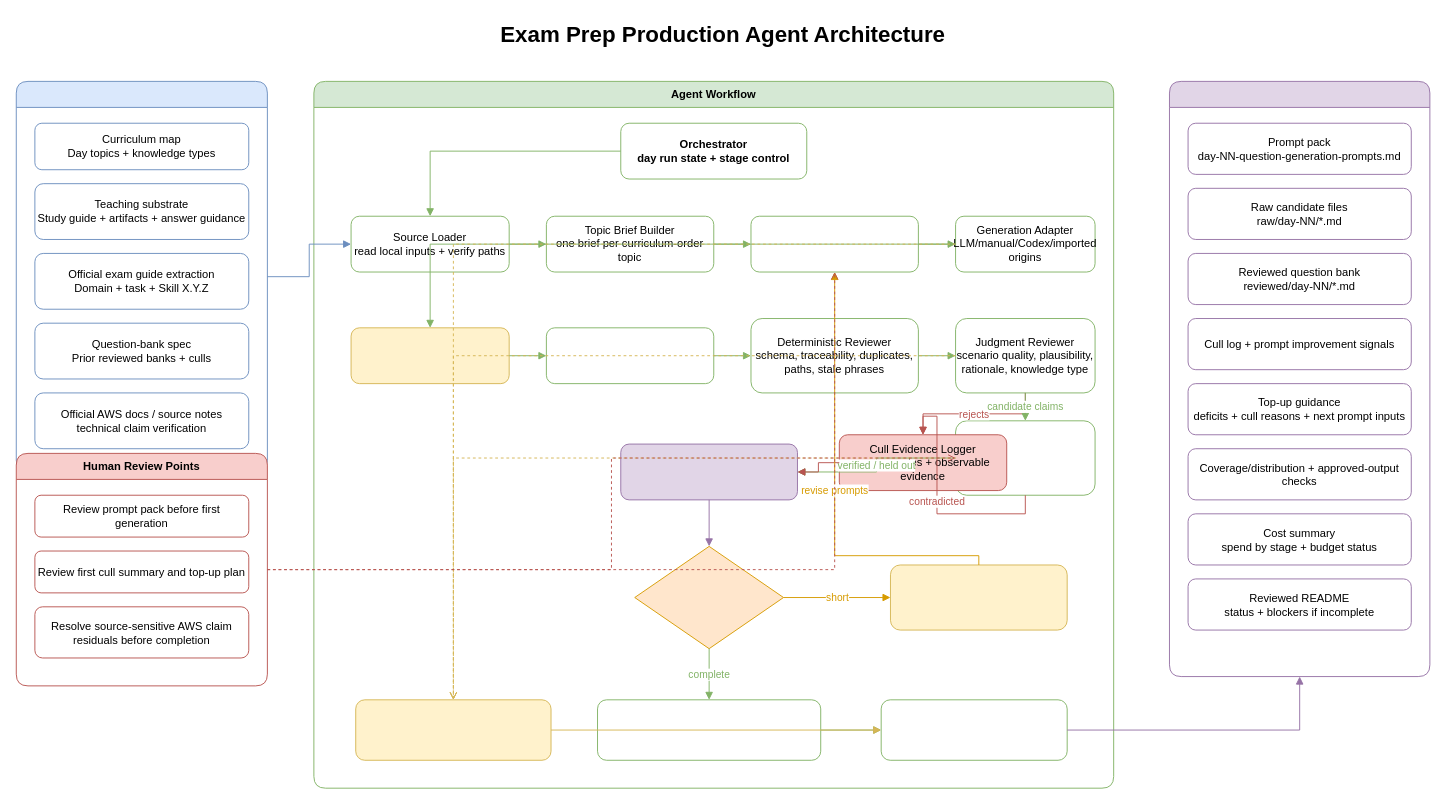
This 1446x804 diagram has some shape labels left out. The shapes that lost their labels are listed below. From the top down, each one's box as (x1, y1, x2, y2) in pixels, then its label:
(750, 215, 918, 272): Prompt Planner surplus candidates + prior cull feedback
(15, 80, 267, 472): Inputs
(350, 327, 509, 384): Raw Store verbatim candidates + true provenance
(545, 327, 714, 384): Normalizer schema-shaped draft items
(1169, 80, 1430, 677): Outputs
(620, 443, 797, 500): Reviewed Bank Draft approved + culled sections
(955, 420, 1095, 495): Atomic Claim Verifier official-source check for novel technical claims
(634, 545, 784, 649): Coverage + Distribution Gate 10/topic + spread/balance?
(890, 564, 1067, 630): Top-Up Planner use deficits + cull reasons + approved/rejected stems
(355, 699, 551, 760): Cost Monitor pre-spend checks + token/API/human cost
(597, 699, 821, 760): Approved-Output Checker negative-control regression scan
(880, 699, 1067, 760): Report Writer final reviewed package
